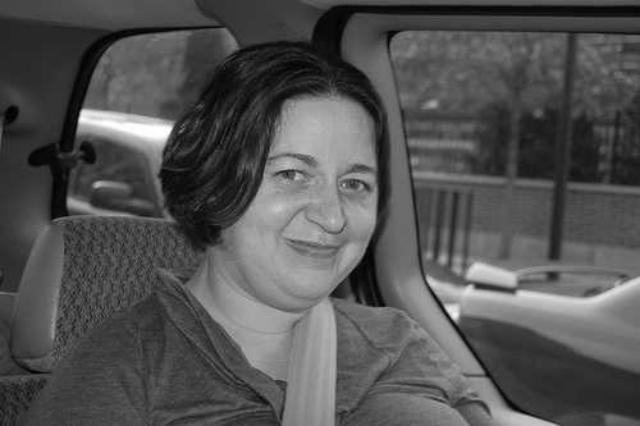SafeDriving: (330, 164, 375, 202), (265, 157, 315, 190)
Seatbelt: (282, 294, 344, 426)
